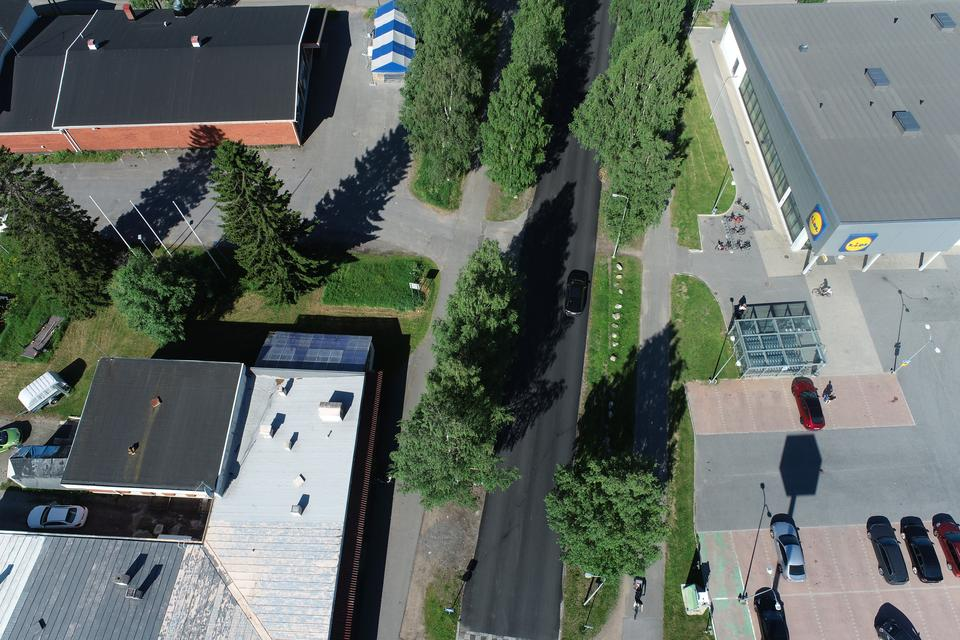intersection: (425, 185, 618, 319)
